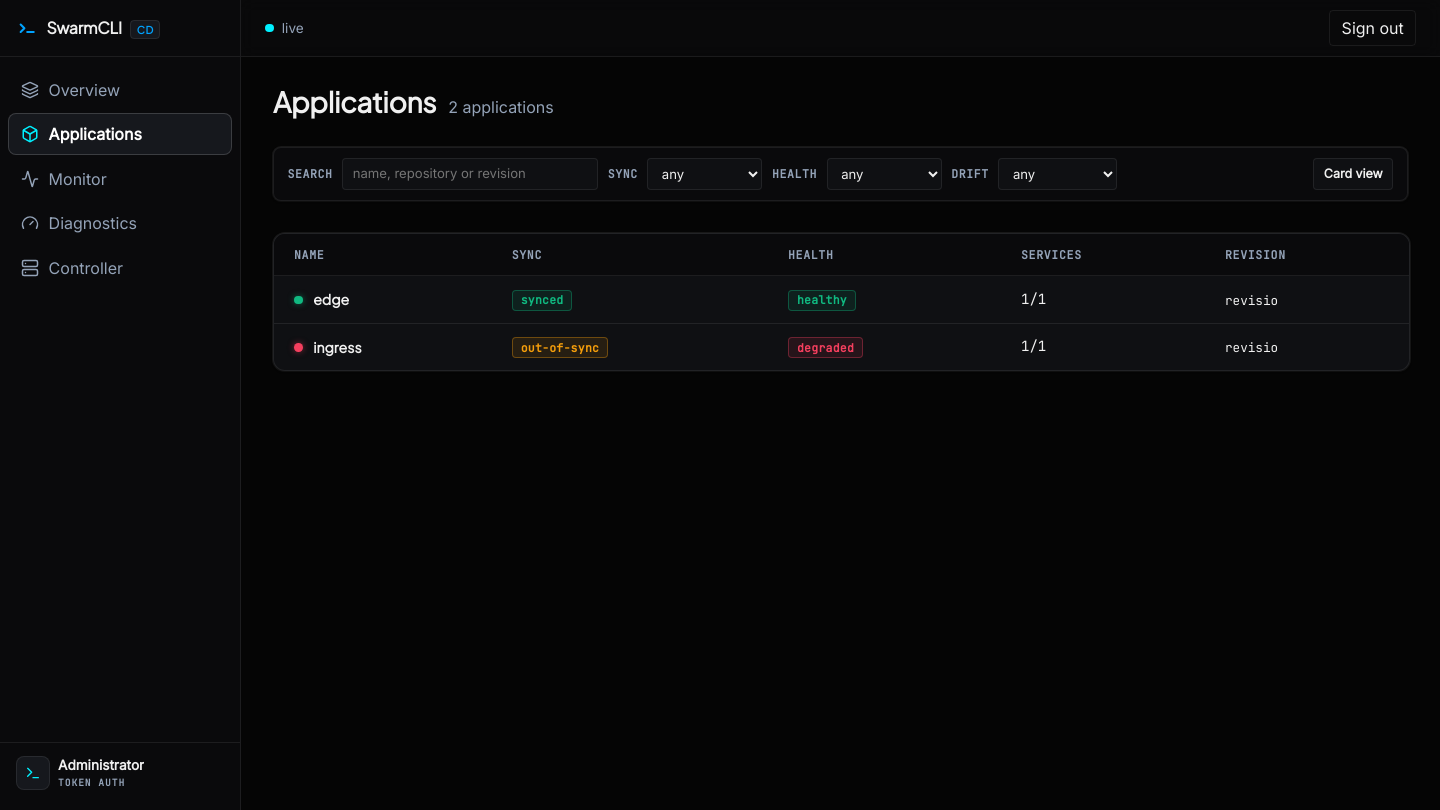
Scenario: the diagnostics screen › scores integrity and lists the risk behind the score
Expected: the text "2 applications" is shown, top-left (448, 95), bottom-right (554, 119)
Step 1. Click the link "Diagnostics" → (79, 223), box top-left (21, 213), bottom-right (137, 233)
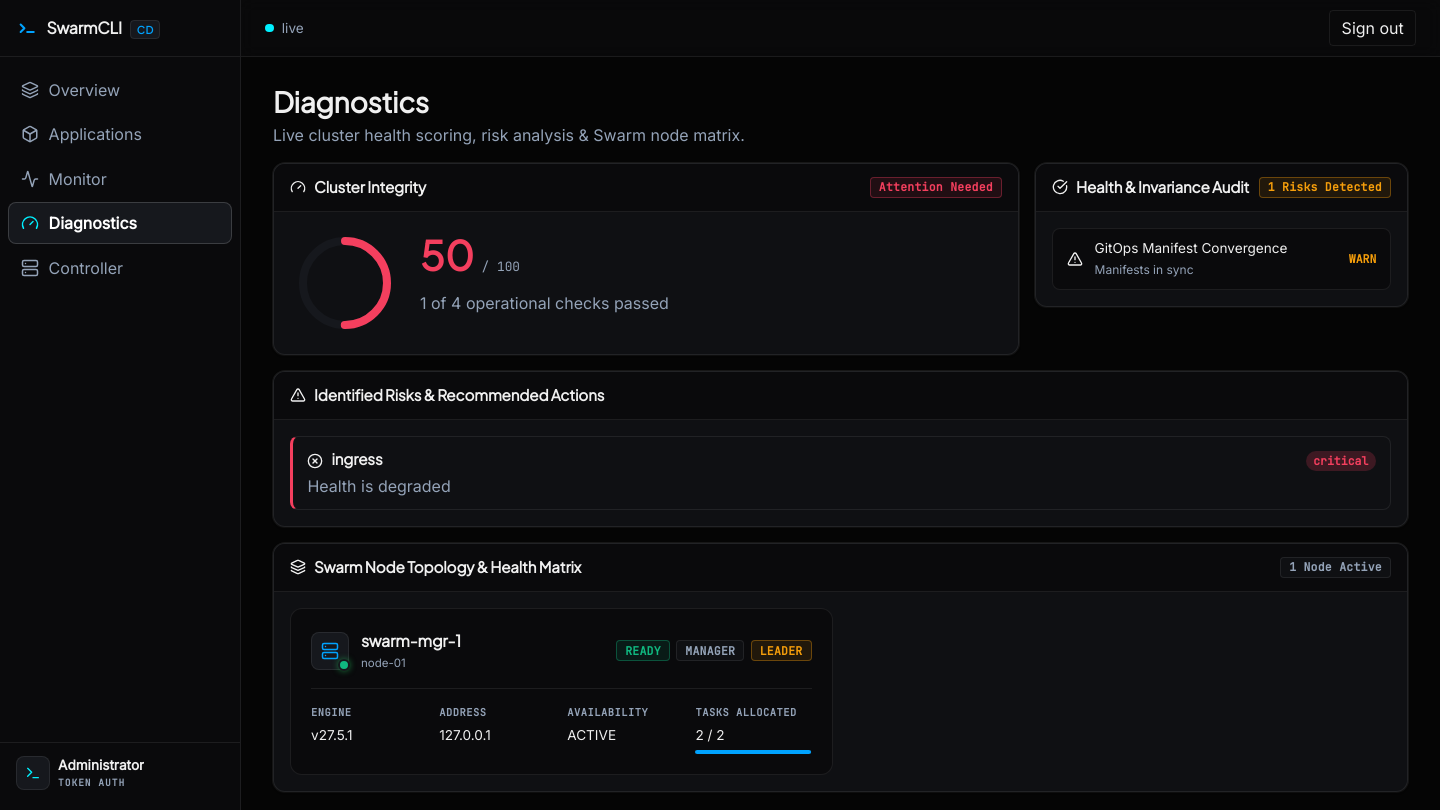
Result: the heading "Diagnostics" is shown at top-left (273, 84), bottom-right (429, 119)
Result: the picture named "Integrity score 50 out of 100" is shown at top-left (290, 228), bottom-right (400, 338)
Result: the text "Health is degraded" is shown at top-left (307, 476), bottom-right (451, 496)
